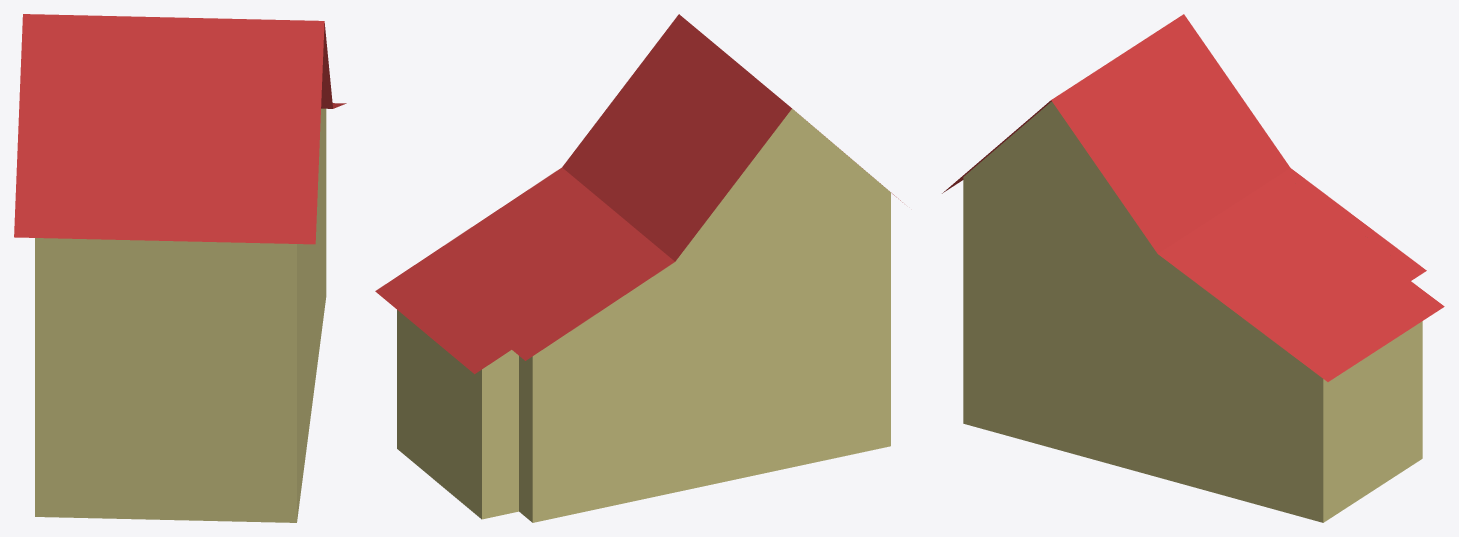
3 renders of one model, left to right at view 1: azimuth 30°, elevation 25°; view 2: azimuth 150°, elevation 25°; view 3: azimuth 270°, elevation 25°, orthographic. The views are drawn at different scales.
Bounding box in the file's own units: 14.32 × 15.82 × 12.33.
